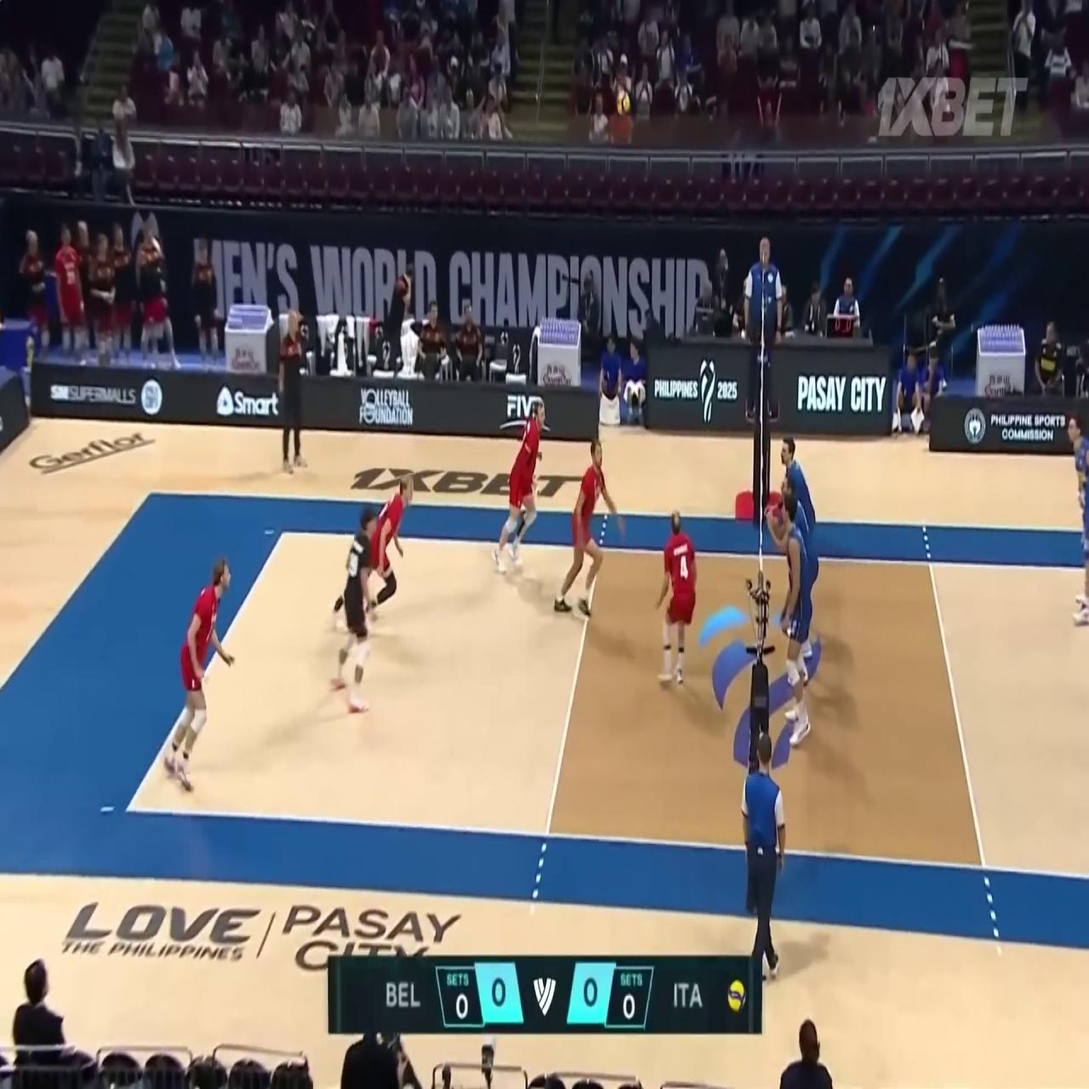ball: (616, 90, 630, 118)
